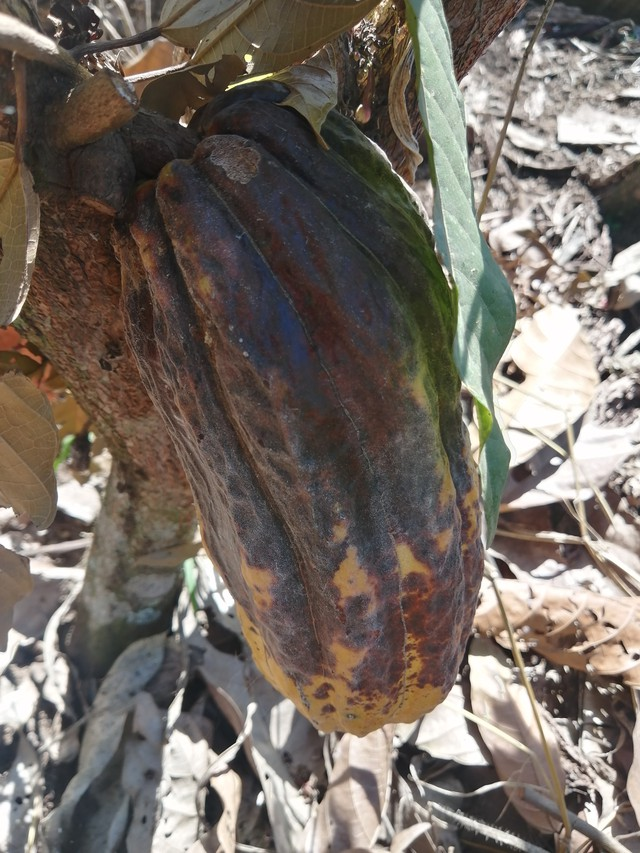phytophthora palmivora: (89, 70, 516, 740)
